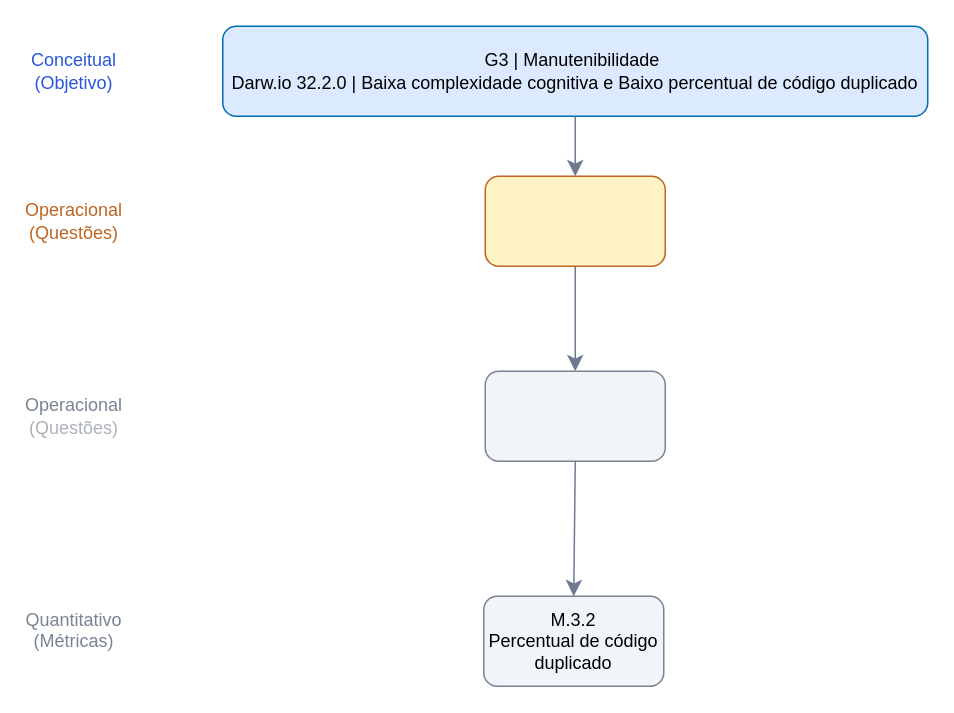
Image size: 954x713. Some labels were removed from this diagram. The box of each missing label's shape, as (x1, y1, x2, y2) in pixels:
Analisabilidade: (484, 175, 665, 266)
Q.3.3 Exportação em PNG, PDF e SVG: (484, 370, 665, 461)
